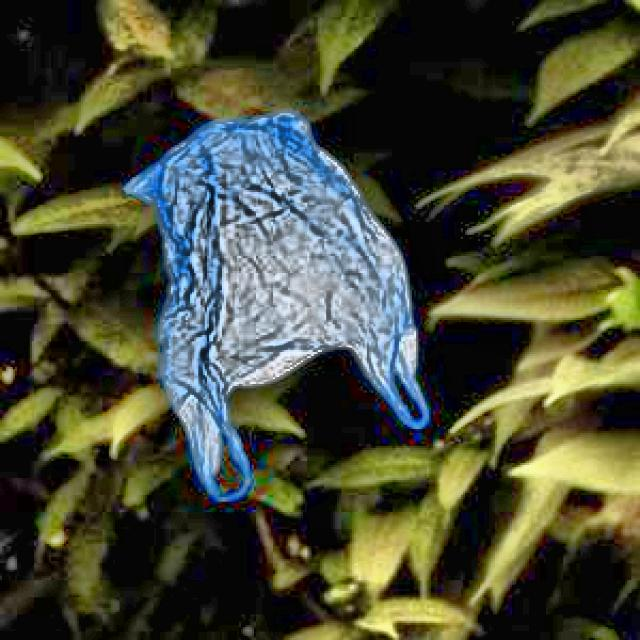Plastic: (125, 103, 439, 506)
